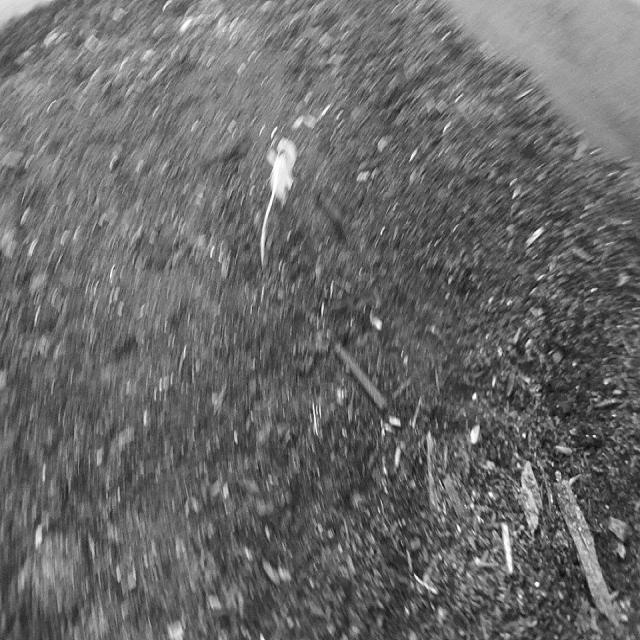Healthy: (256, 135, 298, 272)
